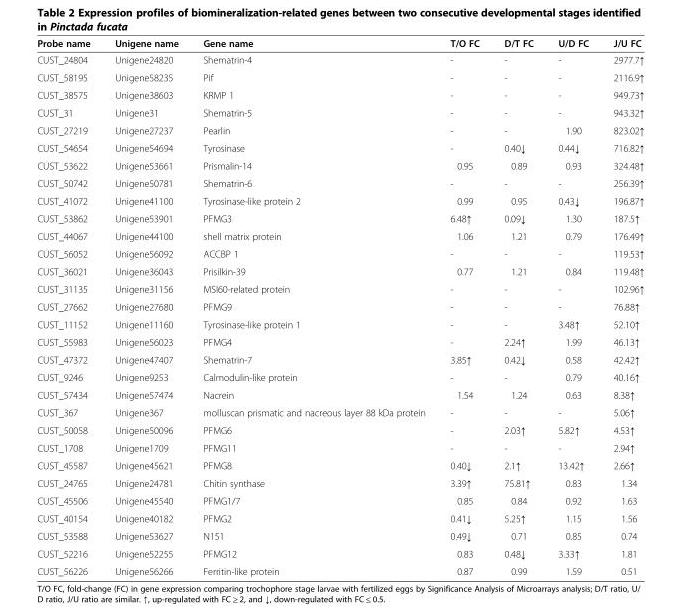table: (36, 37, 643, 576)
table column: (190, 37, 437, 576), (101, 37, 190, 576), (36, 37, 101, 576), (545, 37, 600, 576), (437, 37, 491, 576), (491, 37, 545, 576), (600, 37, 643, 576)
table column header: (36, 37, 643, 51)
table row: (36, 85, 643, 103), (36, 103, 643, 121), (36, 138, 643, 156), (36, 173, 643, 191), (36, 191, 643, 209), (36, 226, 643, 244), (36, 244, 643, 262), (36, 279, 643, 297), (36, 297, 643, 315), (36, 332, 643, 350), (36, 367, 643, 385), (36, 385, 643, 403), (36, 420, 643, 438), (36, 438, 643, 456), (36, 473, 643, 491), (36, 491, 643, 509), (36, 526, 643, 544), (36, 544, 643, 562), (36, 51, 643, 68), (36, 68, 643, 85), (36, 121, 643, 138), (36, 156, 643, 173), (36, 209, 643, 226), (36, 262, 643, 279), (36, 315, 643, 332), (36, 350, 643, 367), (36, 403, 643, 420), (36, 456, 643, 473), (36, 509, 643, 526), (36, 37, 643, 51), (36, 562, 643, 576)
